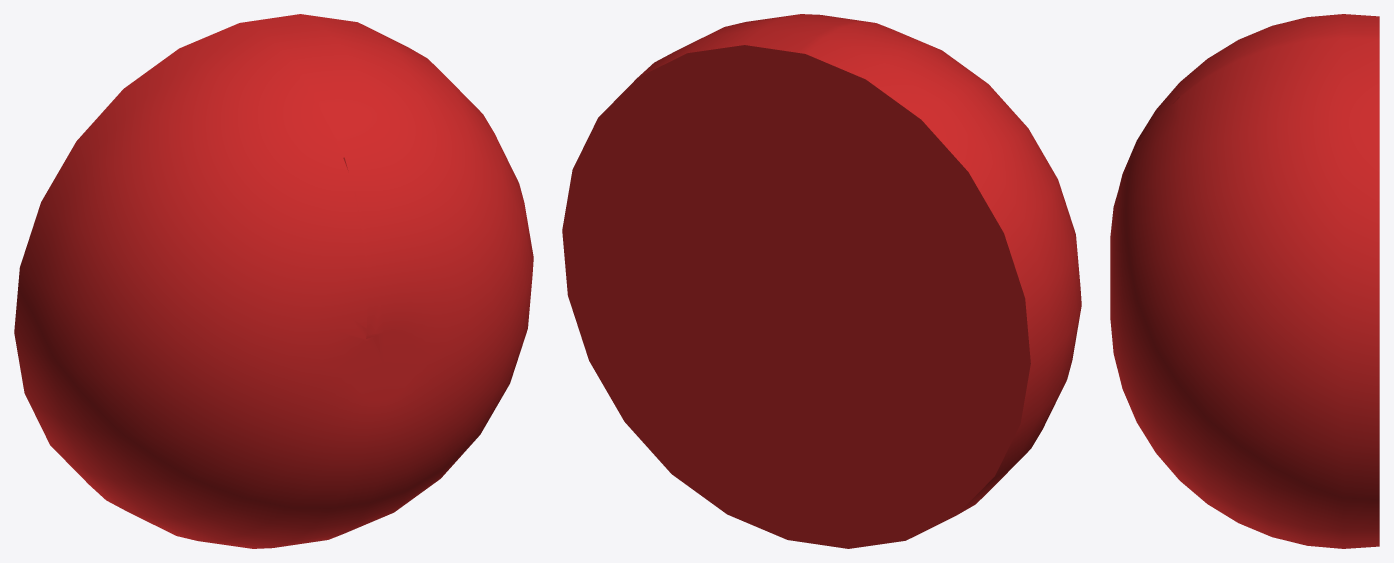
The model's file is original-7.obj.
The picture shows the model from 3 angles, left to right: view 1: azimuth 30°, elevation 25°; view 2: azimuth 150°, elevation 25°; view 3: azimuth 270°, elevation 25°; orthographic projection.
Visible parts, largest first — view 1: Group7/mesh17/mesh17-geometry#mesh17-geometry; view 2: Group7/mesh17/mesh17-geometry#mesh17-geometry; view 3: Group7/mesh17/mesh17-geometry#mesh17-geometry.
Boxes of the visible parts, <box> form: Group7/mesh17/mesh17-geometry#mesh17-geometry: <box>14,14,533,548</box>; Group7/mesh17/mesh17-geometry#mesh17-geometry: <box>562,14,1081,548</box>; Group7/mesh17/mesh17-geometry#mesh17-geometry: <box>1110,14,1379,548</box>.
Bounding box in the file's own units: 0.1542 × 0.1542 × 0.0771.
